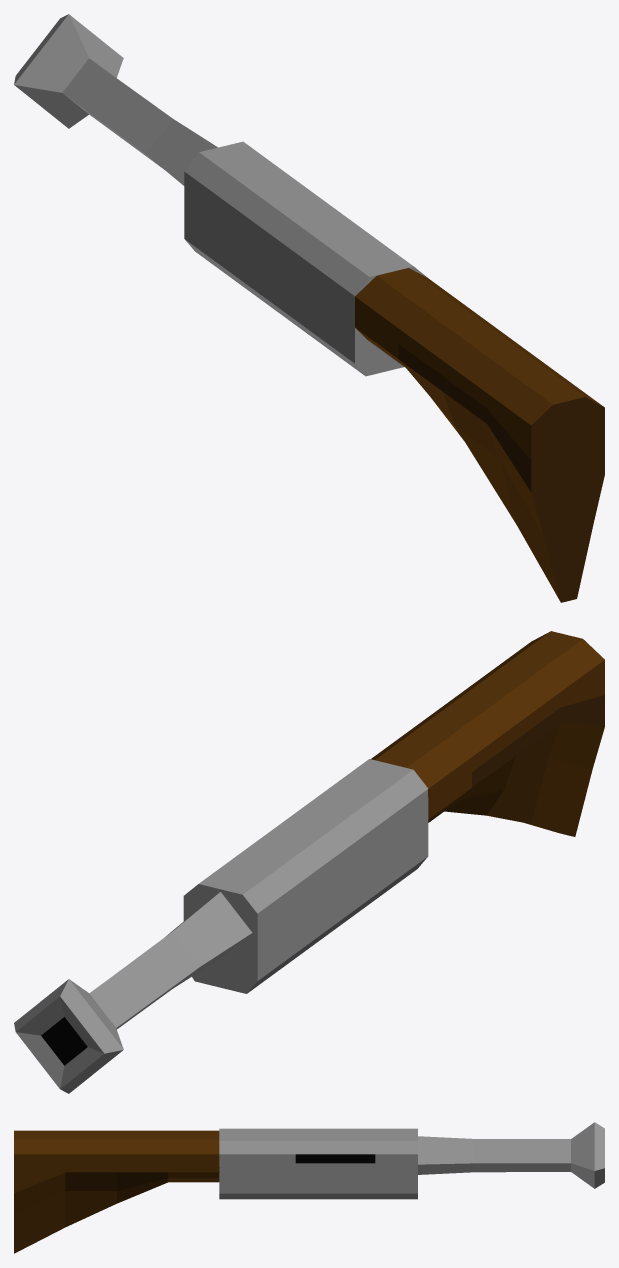
File: gun.fbx
The picture shows the model from 3 angles, top to bottom: view 1: azimuth 30°, elevation 25°; view 2: azimuth 150°, elevation 25°; view 3: azimuth 270°, elevation 25°; orthographic projection. The views are drawn at different scales.
Parts seen in each view (by area): view 1: Cube.001; view 2: Cube.001; view 3: Cube.001.
Boxes of the visible parts, left/top/right/bottom form: Cube.001: left=14, top=14, right=604, bottom=602; Cube.001: left=14, top=631, right=604, bottom=1093; Cube.001: left=14, top=1122, right=604, bottom=1253.
Bounding box in the file's own units: 298 × 576 × 2388.
